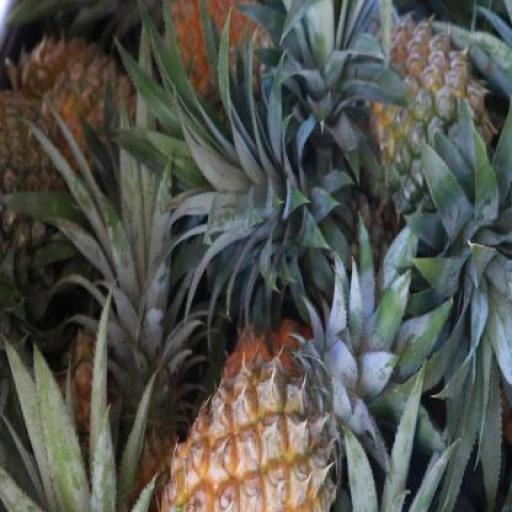------------------------------: (360, 17, 498, 228)
Pineapple - v8 v1: (160, 346, 340, 511)
